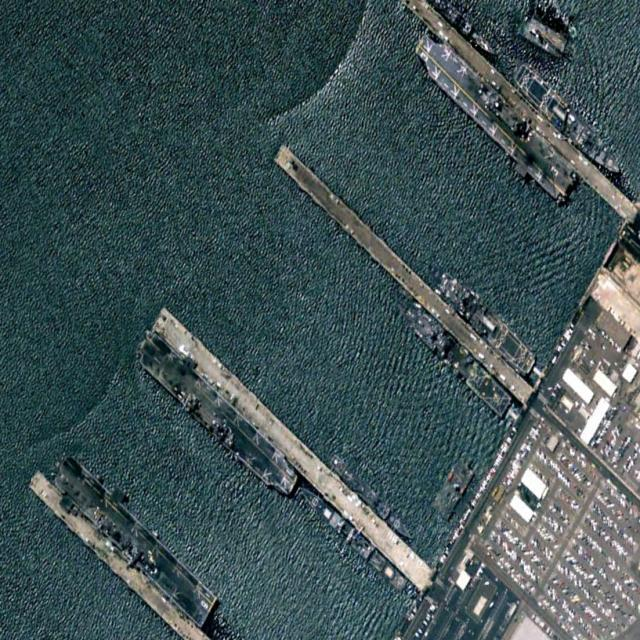Cruiser: (297, 480, 408, 594)
Frigate: (328, 450, 416, 545)
Landing: (406, 23, 581, 214), (50, 442, 223, 629), (130, 319, 306, 502), (389, 286, 513, 421), (420, 254, 540, 378), (508, 58, 627, 182)
